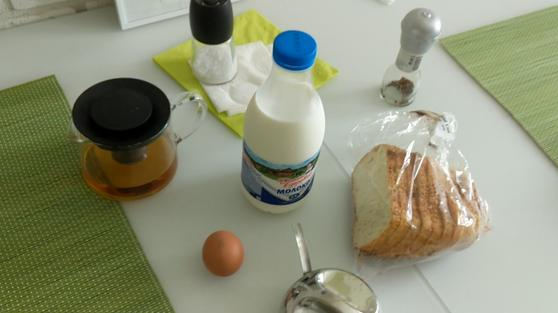egg: (206, 227, 247, 280)
milk: (235, 28, 322, 216)
white_bread: (340, 137, 486, 259)
